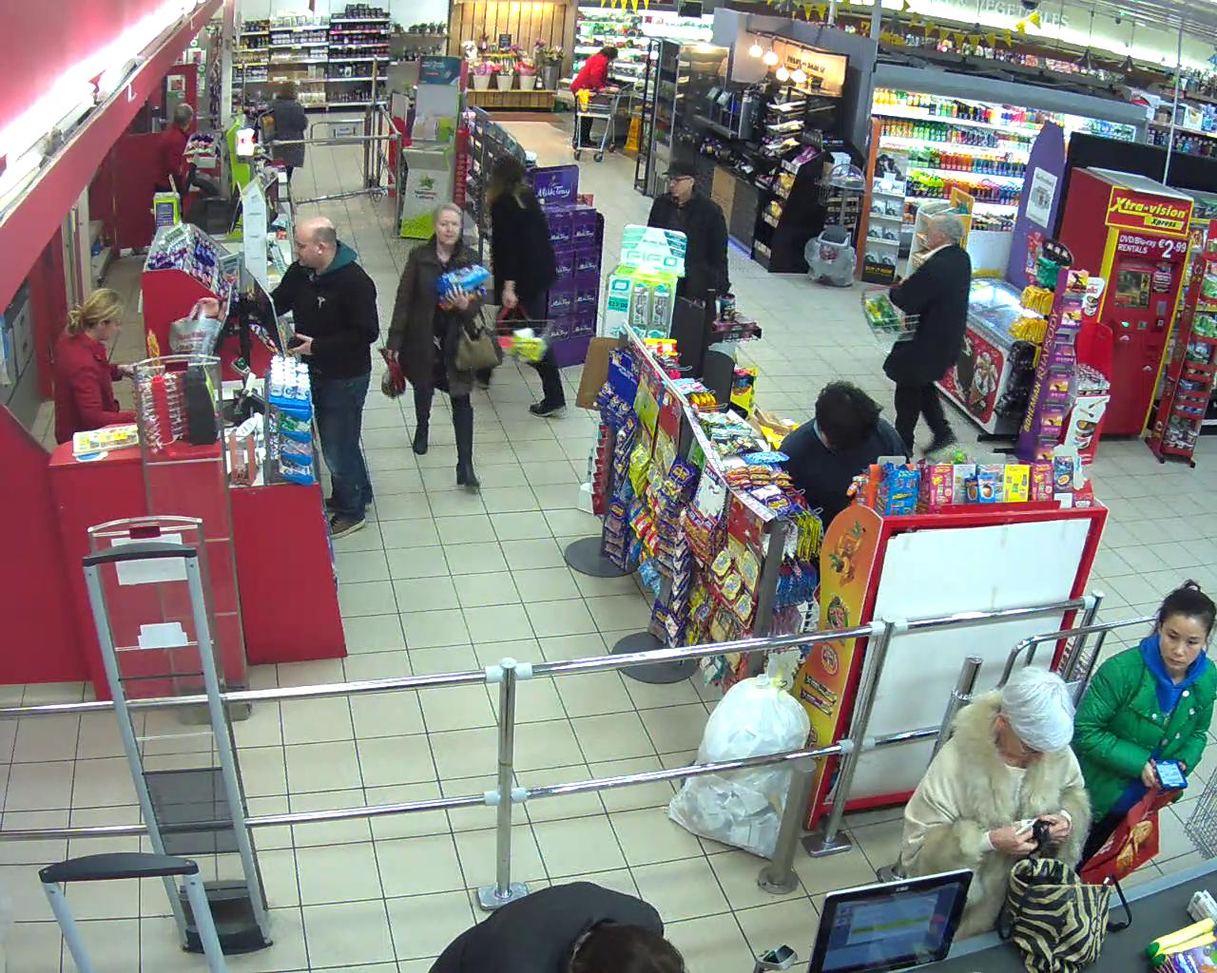backpack-or-handbag: (451, 320, 504, 371)
carrying-item: (436, 257, 492, 310), (376, 344, 409, 399)
filled-basket: (486, 303, 555, 363), (861, 282, 920, 343)
occupied-checkout-counter: (51, 267, 290, 439), (139, 97, 279, 185)
person: (386, 203, 481, 488), (882, 215, 973, 455), (487, 153, 566, 415)
person-with-backpack-handbag-and-carrying-item-s-: (376, 203, 504, 489)
person-with-filled-basket-trolly: (861, 214, 974, 458), (487, 153, 566, 415)
vacant-checkout-counter: (147, 164, 284, 266)
